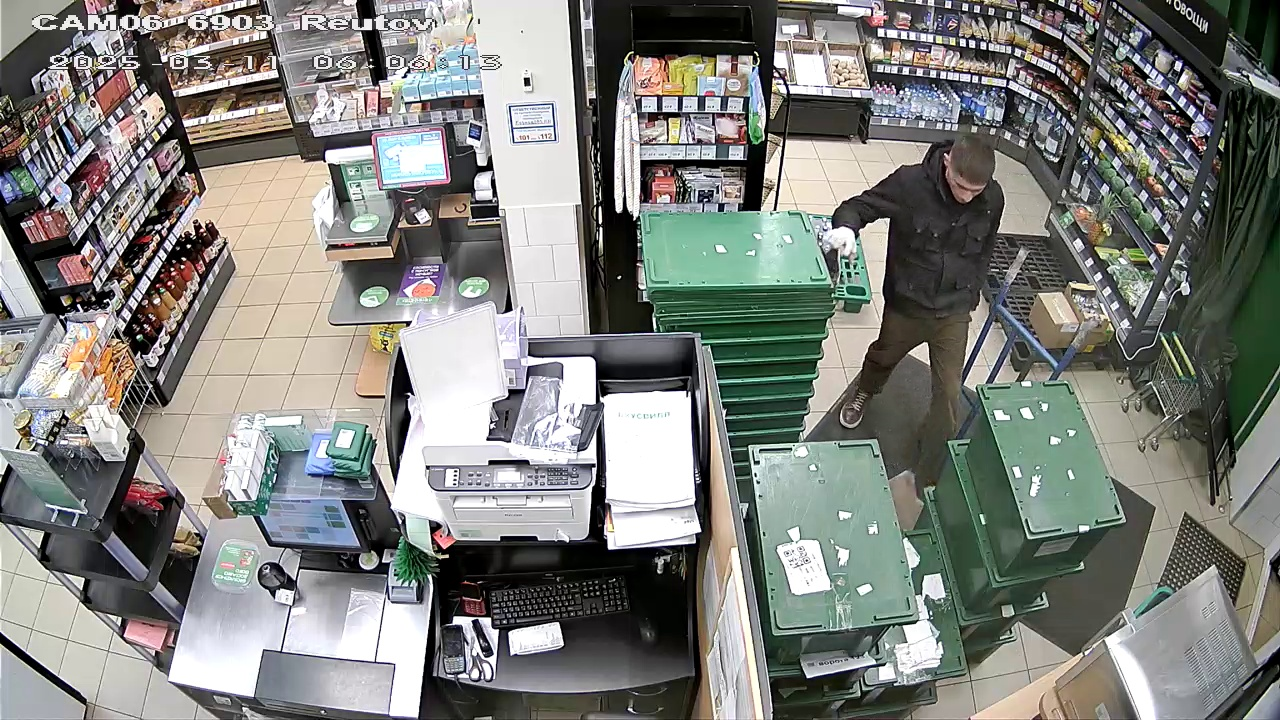Human: (819, 115, 995, 462)
pallet: (977, 228, 1114, 373)
